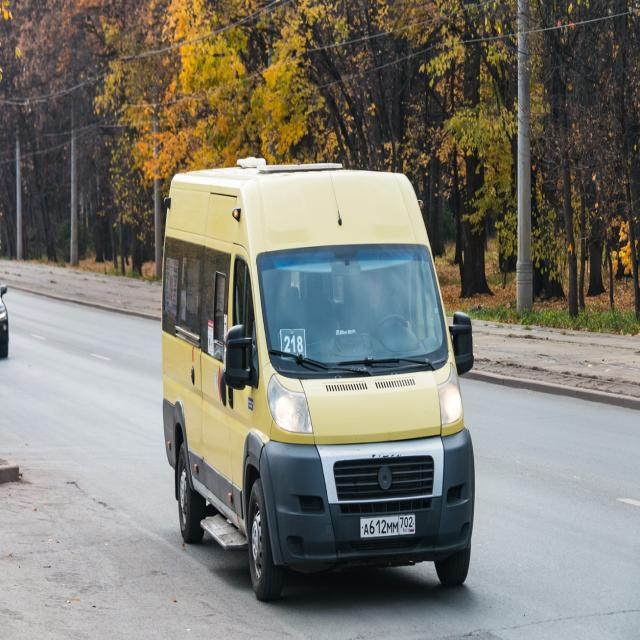number-of-bus: (282, 333, 307, 358)
